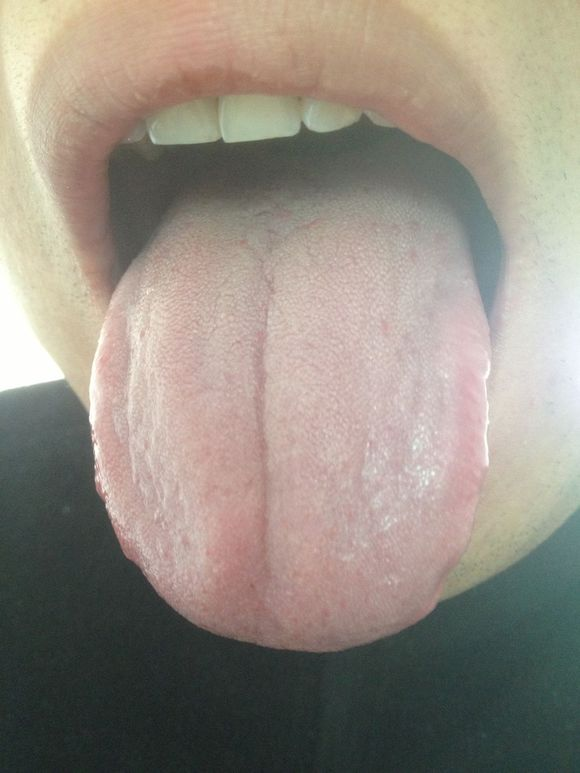baitaishe: (88, 132, 491, 652)
gandanao: (90, 237, 174, 601)
liewenshe: (254, 274, 275, 581)
